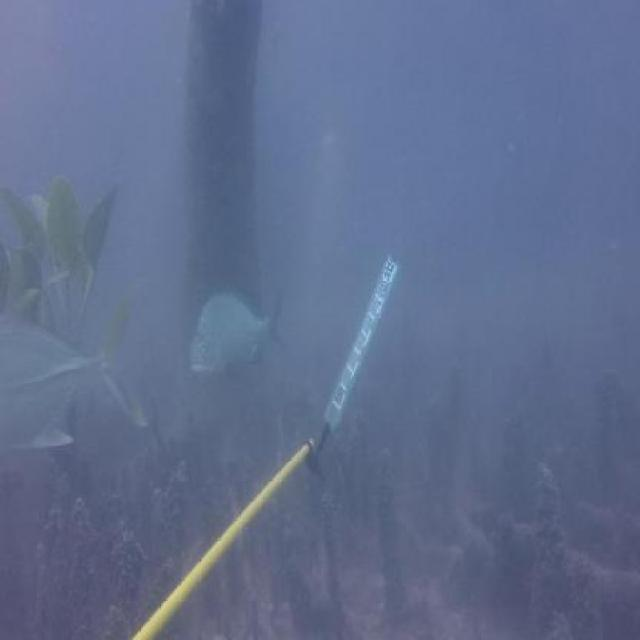Caranx: (1, 286, 154, 460)
acanthopagrus_palmaris: (184, 276, 291, 390)
